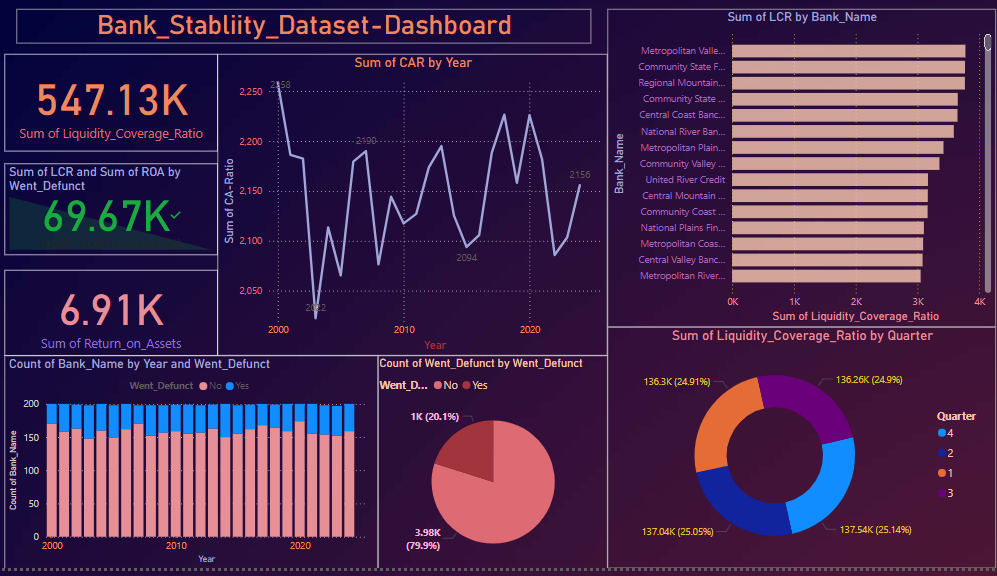

The dashboard page shown, as its layout file describes it:
{"tool":"powerbi","page":{"name":"Page 1","canvas":[1280,720],"ordinal":0},"visuals":[{"type":"card","fields":{"Values":["Sum(Bank_Stability_Dataset.Liquidity_Coverage_Ratio)"]},"box":[13.2,71.8,268.3,122.8],"z":0},{"type":"card","fields":{"Values":["Sum(Bank_Stability_Dataset.Return_on_Assets)"]},"box":[13.2,343.9,268.3,107.7],"z":1000},{"type":"barChart","title":"Sum of LCR by Bank_Name","fields":{"Category":["Bank_Stability_Dataset.Bank_Name"],"Y":["Sum(Bank_Stability_Dataset.Liquidity_Coverage_Ratio)"]},"box":[772.9,15.1,489.5,400.6],"z":2000},{"type":"pieChart","fields":{"Category":["Bank_Stability_Dataset.Went_Defunct"],"Y":["CountNonNull(Bank_Stability_Dataset.Went_Defunct)"]},"box":[483.8,451.7,289.1,268.3],"z":3000},{"type":"donutChart","fields":{"Category":["Bank_Stability_Dataset.Quarter"],"Y":["Sum(Bank_Stability_Dataset.Liquidity_Coverage_Ratio)"]},"box":[772.9,415.8,489.5,304.3],"z":4000},{"type":"kpi","title":"Sum of LCR and Sum of ROA by Went_Defunct","fields":{"Indicator":["Sum(Bank_Stability_Dataset.Liquidity_Coverage_Ratio)"],"TrendLine":["Bank_Stability_Dataset.Went_Defunct"],"Goal":["Sum(Bank_Stability_Dataset.Return_on_Assets)"]},"box":[13.2,209.8,268.3,115.3],"z":5000},{"type":"columnChart","fields":{"Category":["Bank_Stability_Dataset.Year"],"Y":["CountNonNull(Bank_Stability_Dataset.Bank_Name)"],"Series":["Bank_Stability_Dataset.Went_Defunct"]},"box":[13.2,451.7,470.6,268.3],"z":6000},{"type":"lineChart","title":"Sum of CAR by Year","fields":{"Category":["Bank_Stability_Dataset.Year"],"Y":["Sum(Bank_Stability_Dataset.CA-Ratio)"]},"box":[281.6,71.8,491.3,379.8],"z":7000},{"type":"card","title":"Bank_Stabliity_Dataset-Dashboard","fields":{"Values":["Min(Bank_Stability_Dataset.Bank_Name)"]},"box":[28.3,15.1,723.8,43.5],"z":7001}]}

Visuals, with their boxes in screenshot pixels (x1, y1, x2, y2), scaled from the page's 1280x720 canvas onto the 997x576 screenshot:
card - Sum(Bank_Stability_Dataset.Liquidity_Coverage_Ratio): 10, 57, 219, 156
card - Sum(Bank_Stability_Dataset.Return_on_Assets): 10, 275, 219, 361
"Sum of LCR by Bank_Name" barChart: 602, 12, 983, 333
pieChart - Bank_Stability_Dataset.Went_Defunct x CountNonNull(Bank_Stability_Dataset.Went_Defunct): 377, 361, 602, 575
donutChart - Bank_Stability_Dataset.Quarter x Sum(Bank_Stability_Dataset.Liquidity_Coverage_Ratio): 602, 333, 983, 575
"Sum of LCR and Sum of ROA by Went_Defunct" kpi: 10, 168, 219, 260
columnChart - Bank_Stability_Dataset.Year x CountNonNull(Bank_Stability_Dataset.Bank_Name): 10, 361, 377, 575
"Sum of CAR by Year" lineChart: 219, 57, 602, 361
"Bank_Stabliity_Dataset-Dashboard" card: 22, 12, 586, 47
